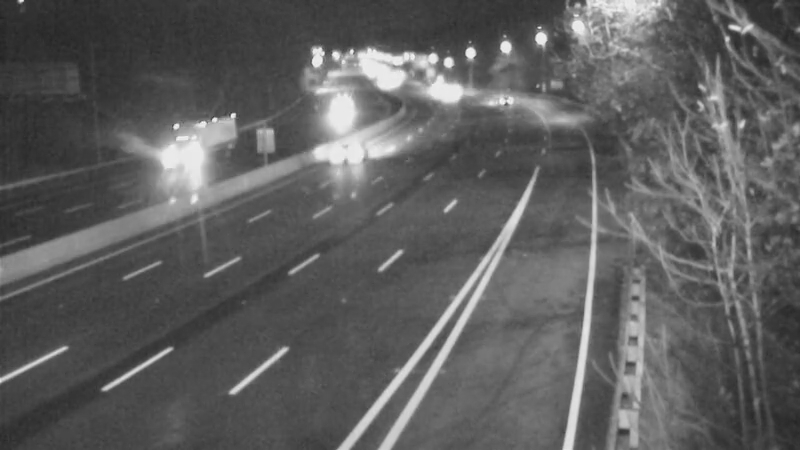vehicle: (302, 114, 382, 194), (139, 113, 219, 193), (405, 66, 455, 116), (430, 68, 480, 118), (477, 76, 527, 126), (311, 81, 361, 131)
